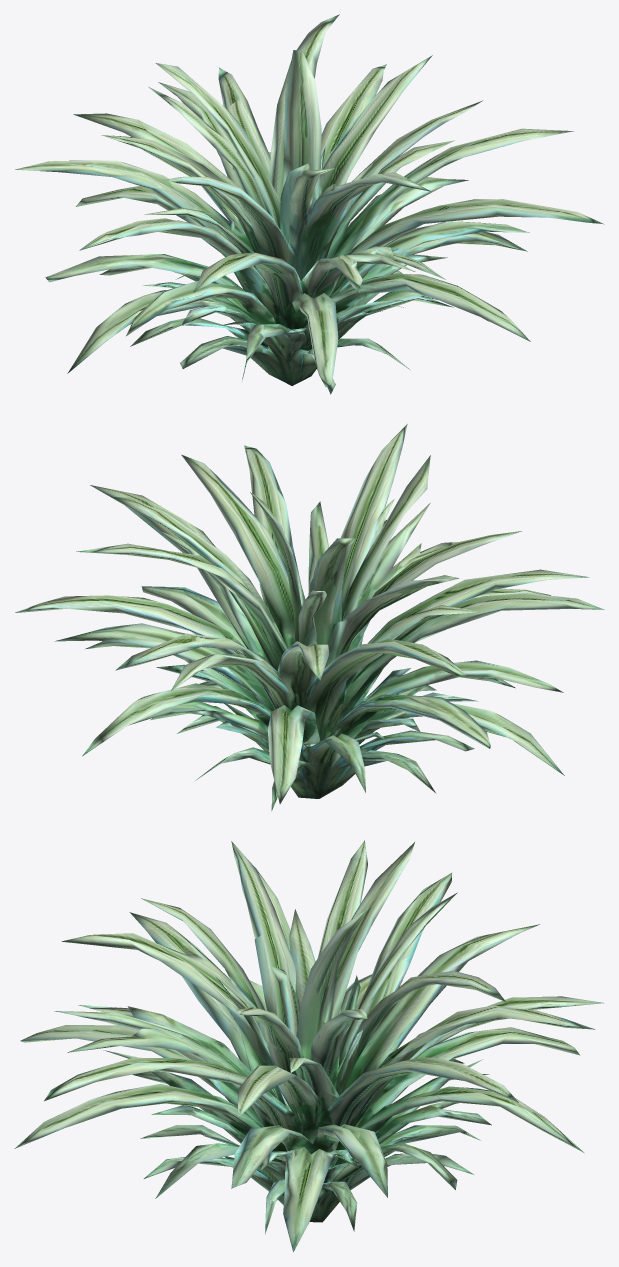
3 views of the same model, one above another, from view 1: azimuth 30°, elevation 25°; view 2: azimuth 150°, elevation 25°; view 3: azimuth 270°, elevation 25° (orthographic). The views are drawn at different scales.
Parts seen in each view (by area): view 1: Mesh_0; view 2: Mesh_0; view 3: Mesh_0.
Boxes of the visible parts, x1,y1,x2,y2 form: Mesh_0: (15, 14, 604, 394); Mesh_0: (15, 424, 604, 810); Mesh_0: (14, 840, 603, 1251).
Bounding box in the file's own units: 1.93 × 1.13 × 1.84.
Materials: 1 (1 with a texture image).
